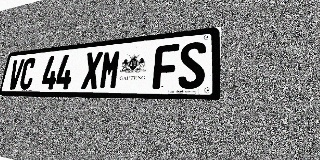4: (54, 54, 75, 89), (40, 55, 60, 89)
C: (18, 58, 37, 90)
F: (152, 44, 179, 89)
M: (98, 49, 122, 89)
S: (178, 41, 206, 89)
V: (7, 59, 25, 90)
X: (81, 51, 103, 89)
